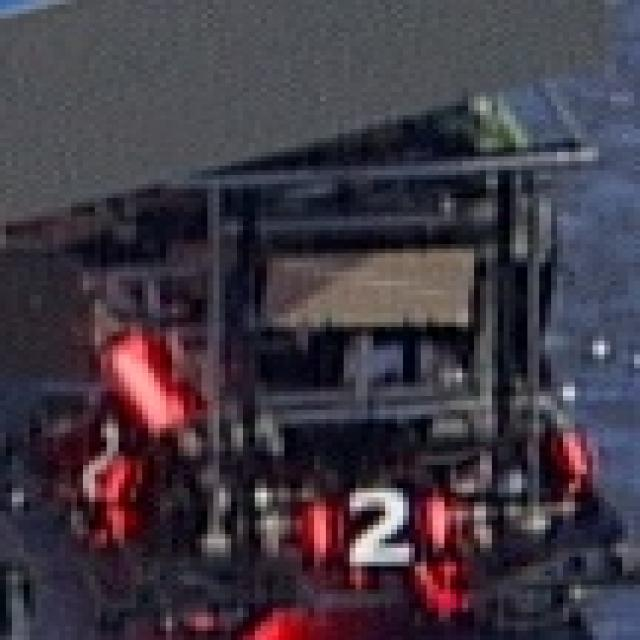R2: (303, 484, 457, 566)
